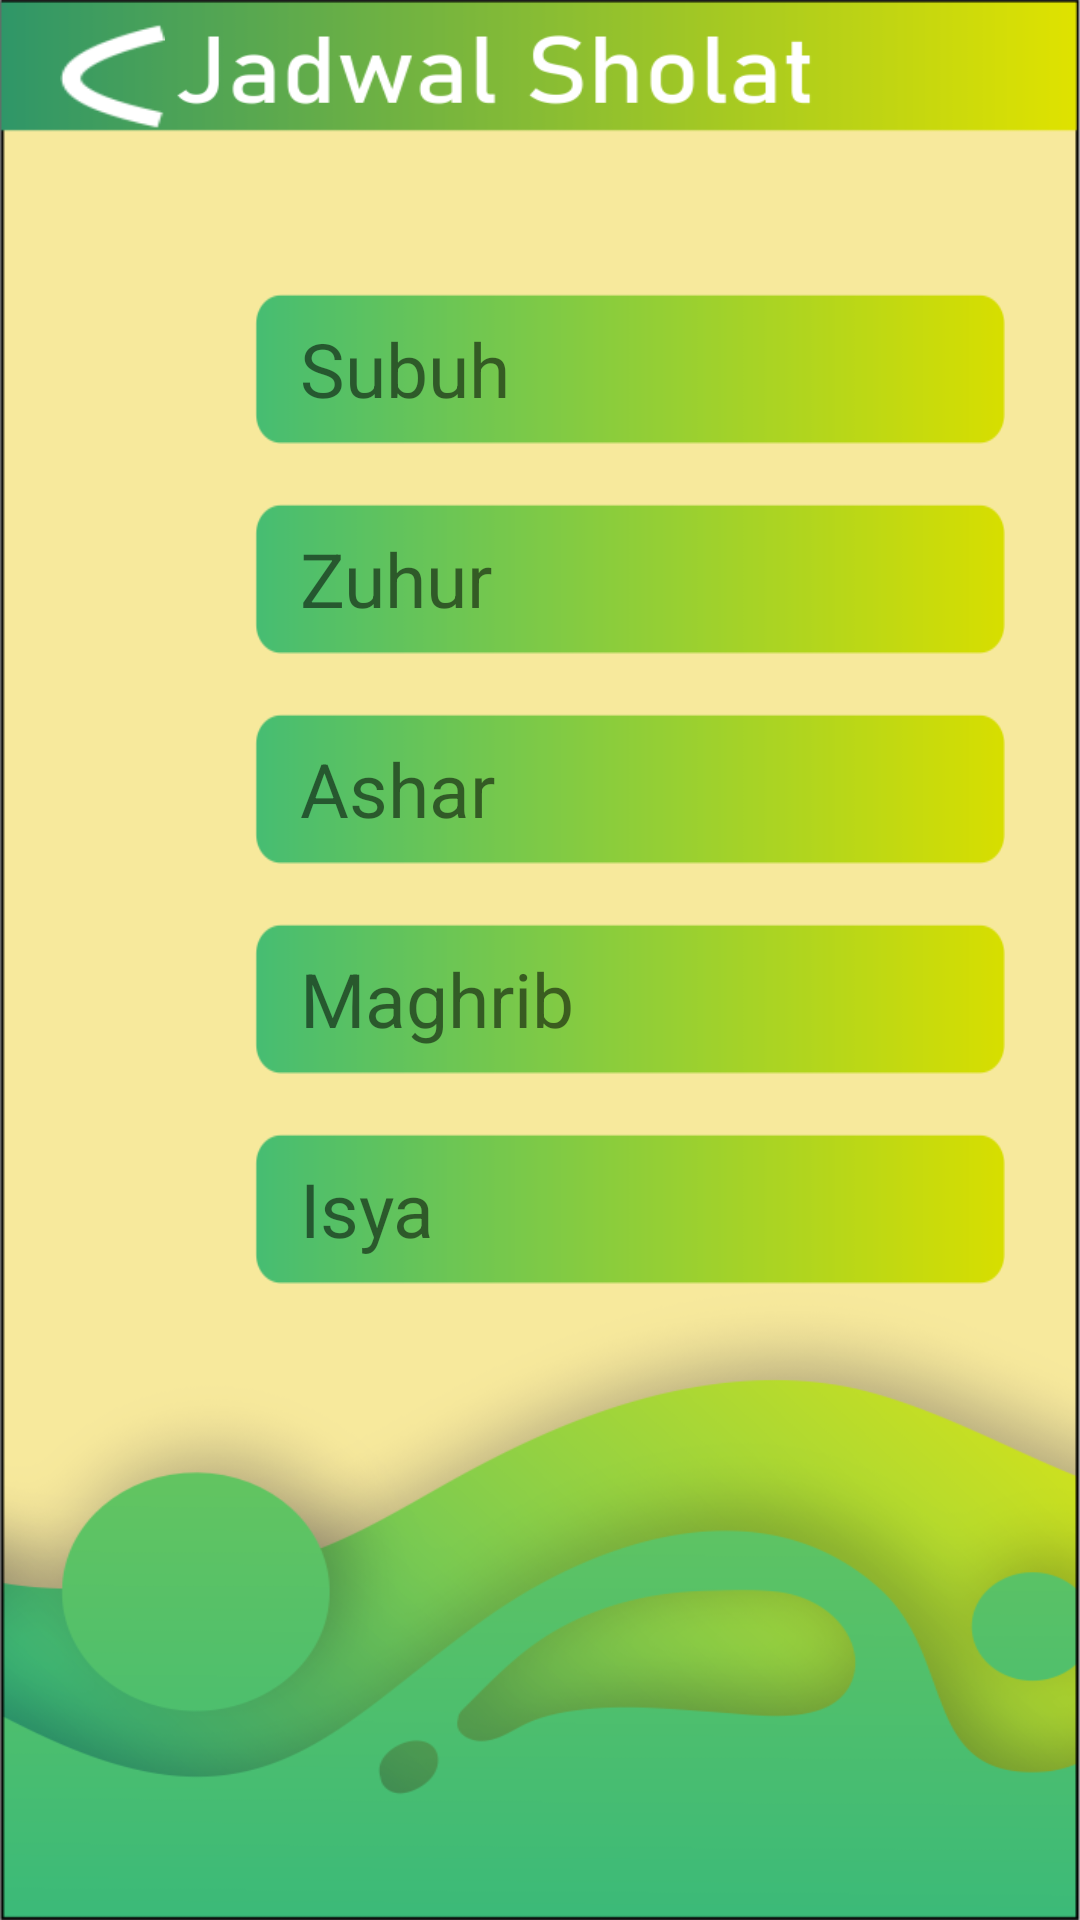

Named icons in this screenshot (1080x1920) and their bounding boxes, (x1, y1, x2, y2):
bback: (60, 25, 165, 128)
